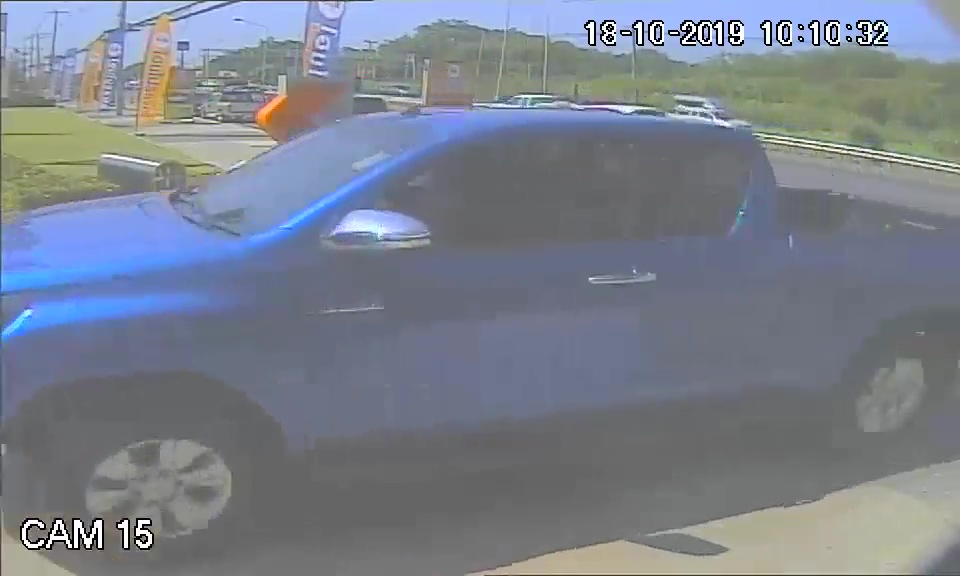pickup: (11, 112, 960, 474)
